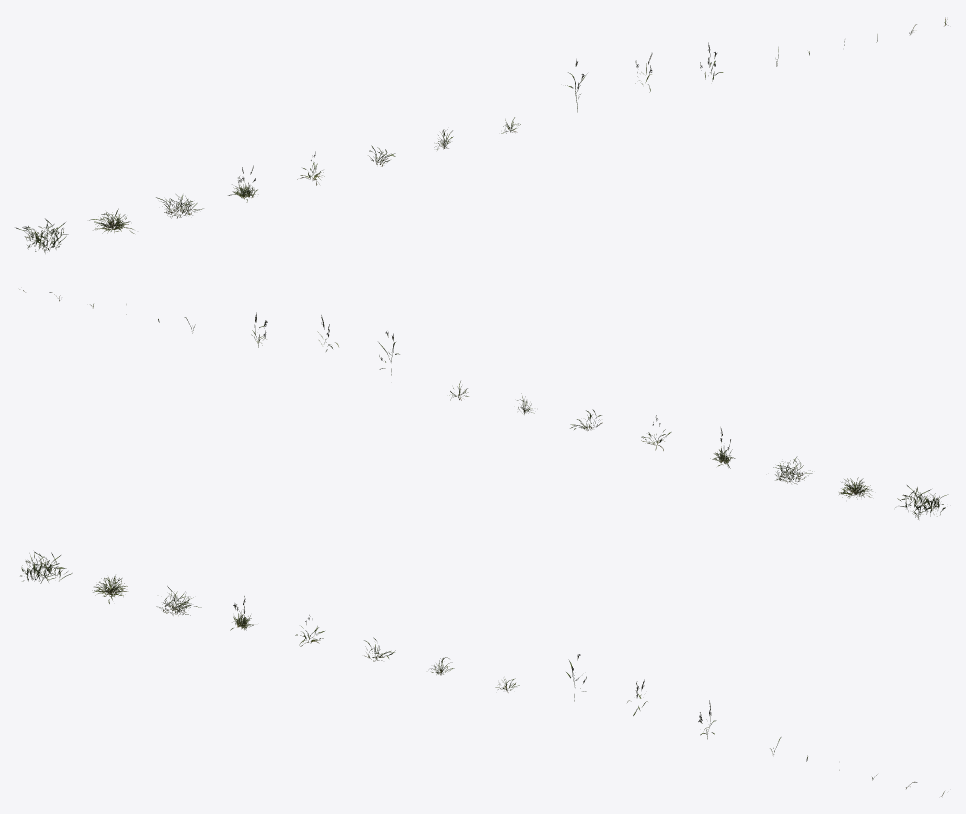
The model's file is grass_medium_01.glb.
3 renders of one model, top to bottom at view 1: azimuth 30°, elevation 25°; view 2: azimuth 150°, elevation 25°; view 3: azimuth 330°, elevation 25°, orthographic.
Visible parts, largest first — view 1: grass_medium_01_small_a_LOD0; view 2: grass_medium_01_small_a_LOD0; view 3: grass_medium_01_small_a_LOD0.
Part boxes in pixels (<box>): grass_medium_01_small_a_LOD0: <box>15,17,948,253</box>; grass_medium_01_small_a_LOD0: <box>19,289,948,519</box>; grass_medium_01_small_a_LOD0: <box>20,551,944,796</box>.
Bounding box in the file's own units: 5.58 × 0.338 × 0.3045.
1 material, 1 textured.
